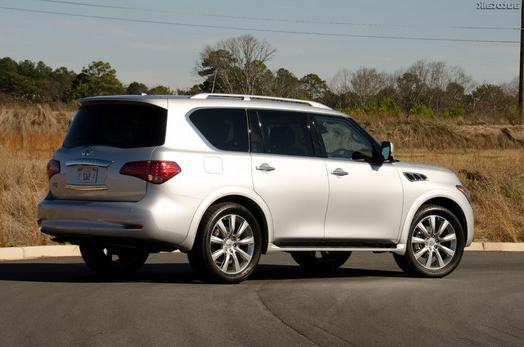Car: (19, 69, 497, 299)
